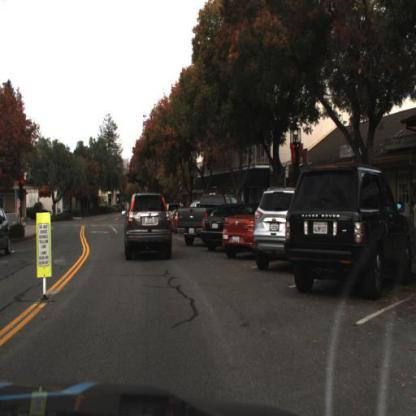car: (286, 162, 415, 306), (120, 190, 175, 264), (252, 185, 293, 274), (177, 191, 236, 247), (220, 200, 256, 259), (202, 201, 229, 249), (1, 200, 13, 260)
